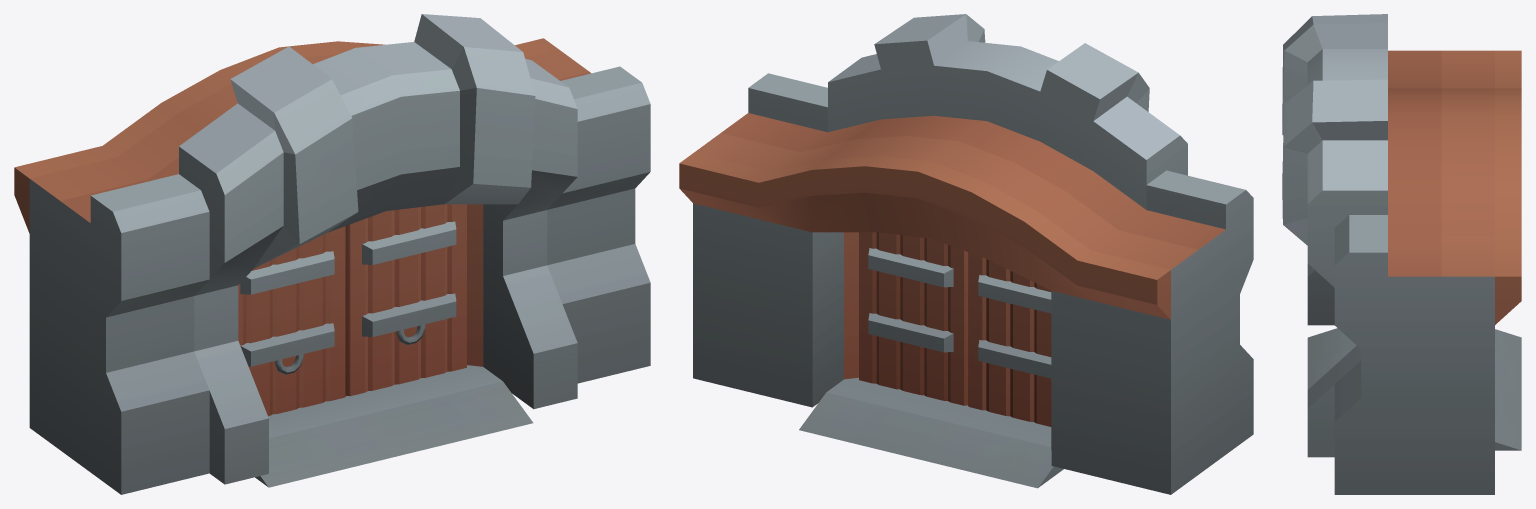
Rendered from kaykit-medieval-hexagon-pack-wall-straight-gate.glb.
The picture shows the model from 3 angles, left to right: view 1: azimuth 30°, elevation 25°; view 2: azimuth 150°, elevation 25°; view 3: azimuth 270°, elevation 25°; orthographic projection. The views are drawn at different scales.
Parts seen in each view (by area): view 1: wall_straight_gate, wall_straight_gate_door_left, wall_straight_gate_door_right; view 2: wall_straight_gate, wall_straight_gate_door_left, wall_straight_gate_door_right; view 3: wall_straight_gate.
Part boxes in pixels (x1,y1,x2,y2): wall_straight_gate: [14, 14, 650, 494]; wall_straight_gate_door_left: [346, 204, 466, 396]; wall_straight_gate_door_right: [238, 226, 346, 416]; wall_straight_gate: [679, 14, 1253, 494]; wall_straight_gate_door_left: [859, 232, 967, 405]; wall_straight_gate_door_right: [968, 252, 1051, 426]; wall_straight_gate: [1282, 14, 1521, 494].
Size of the model in its own units: 2 by 1.41 by 0.8956.
1 material, 1 textured.
